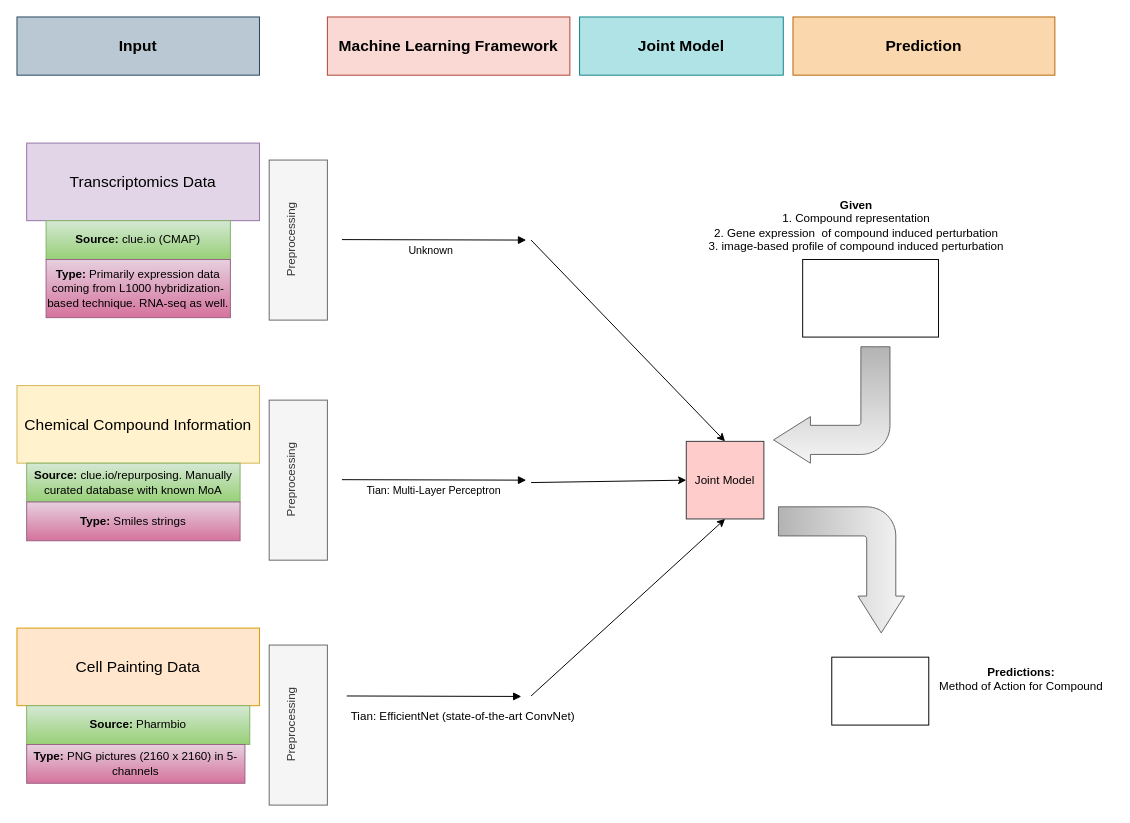
Image size: 1130x823. Some labels were removed from this diagram. Here are the shapes that lost their labels. From the top down, the centre of each, then its label:
At (x=870, y=298): "Unknown Compound 1 Unknown Compound 2 Unknown Compound 3".
At (x=880, y=690): "MoA 1 MoA 2 MoA 3".
